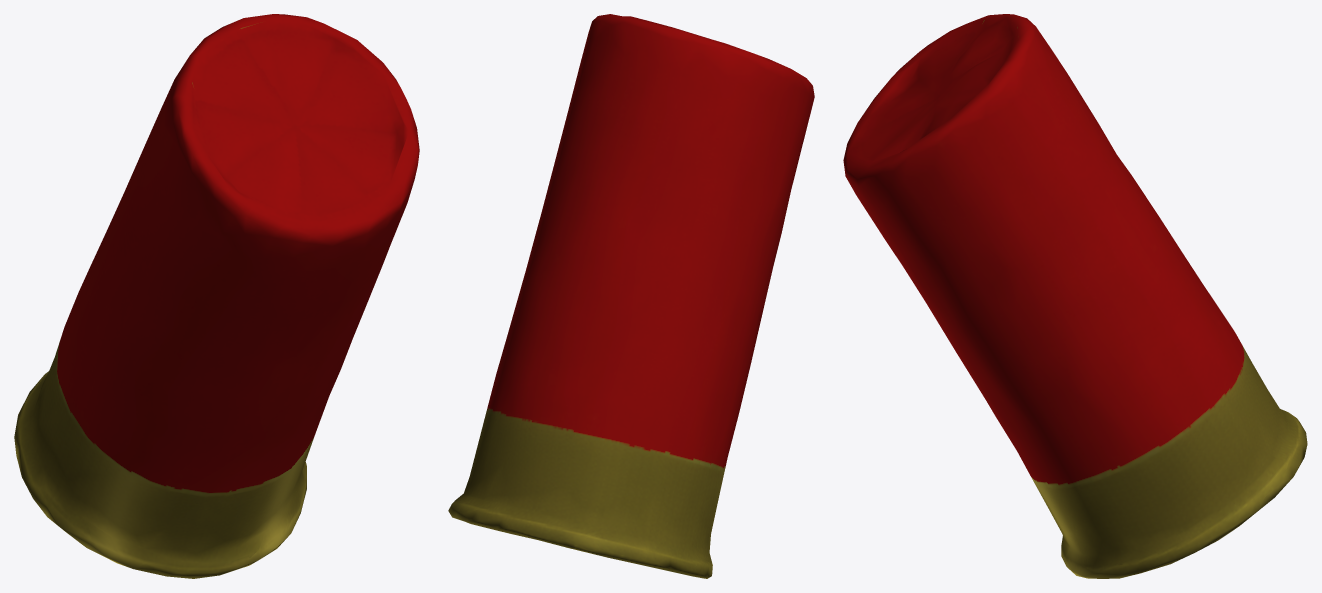
Rendered from Shotgun_Shell.glb.
The picture shows the model from 3 angles, left to right: view 1: azimuth 30°, elevation 25°; view 2: azimuth 150°, elevation 25°; view 3: azimuth 270°, elevation 25°; orthographic projection. The views are drawn at different scales.
Bounding box in the file's own units: 0.4299 × 0.8943 × 0.7118.
Materials: 1 (1 with a texture image).
